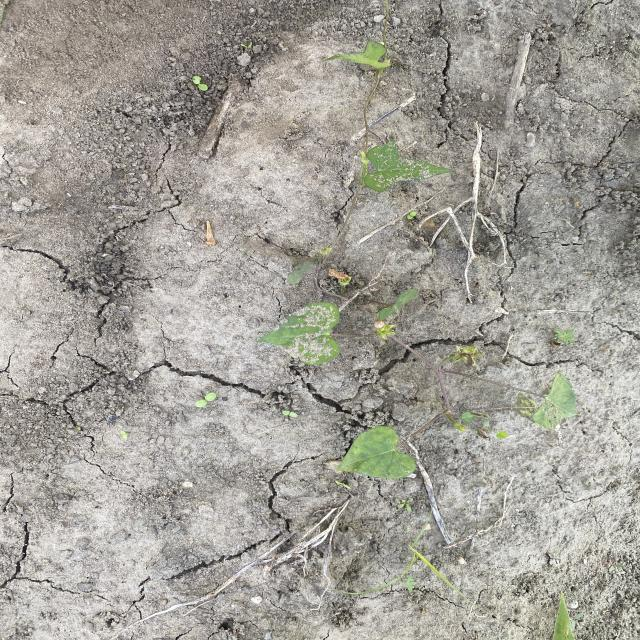MorningGlory: (251, 0, 584, 481)
